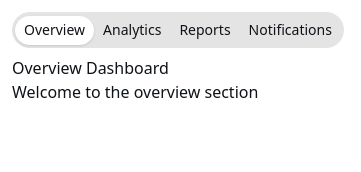
Test case: Tabs Integration and Edge Cases › Integration › works with complex tab structure
Expected: the heading "Overview Dashboard" is shown, [12,57,169,79]
// Navigate to analytics
Click the tab "Analytics": (132, 30) [94,16,170,44]
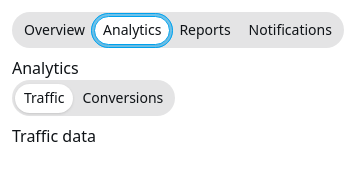
Now the text "Traffic data" is shown, box [12,125,96,147]
// Test nested tabs
Click the tab "Conversions": (123, 98) [73,84,172,112]
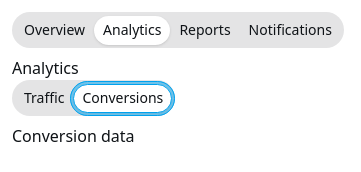
Now the text "Conversion data" is shown, box [12,125,134,147]
// Navigate to reports
Click the tab "Reports": (205, 30) [170,16,240,44]
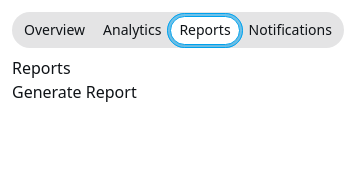
Now the button "Generate Report" is shown, box [12,80,137,104]
